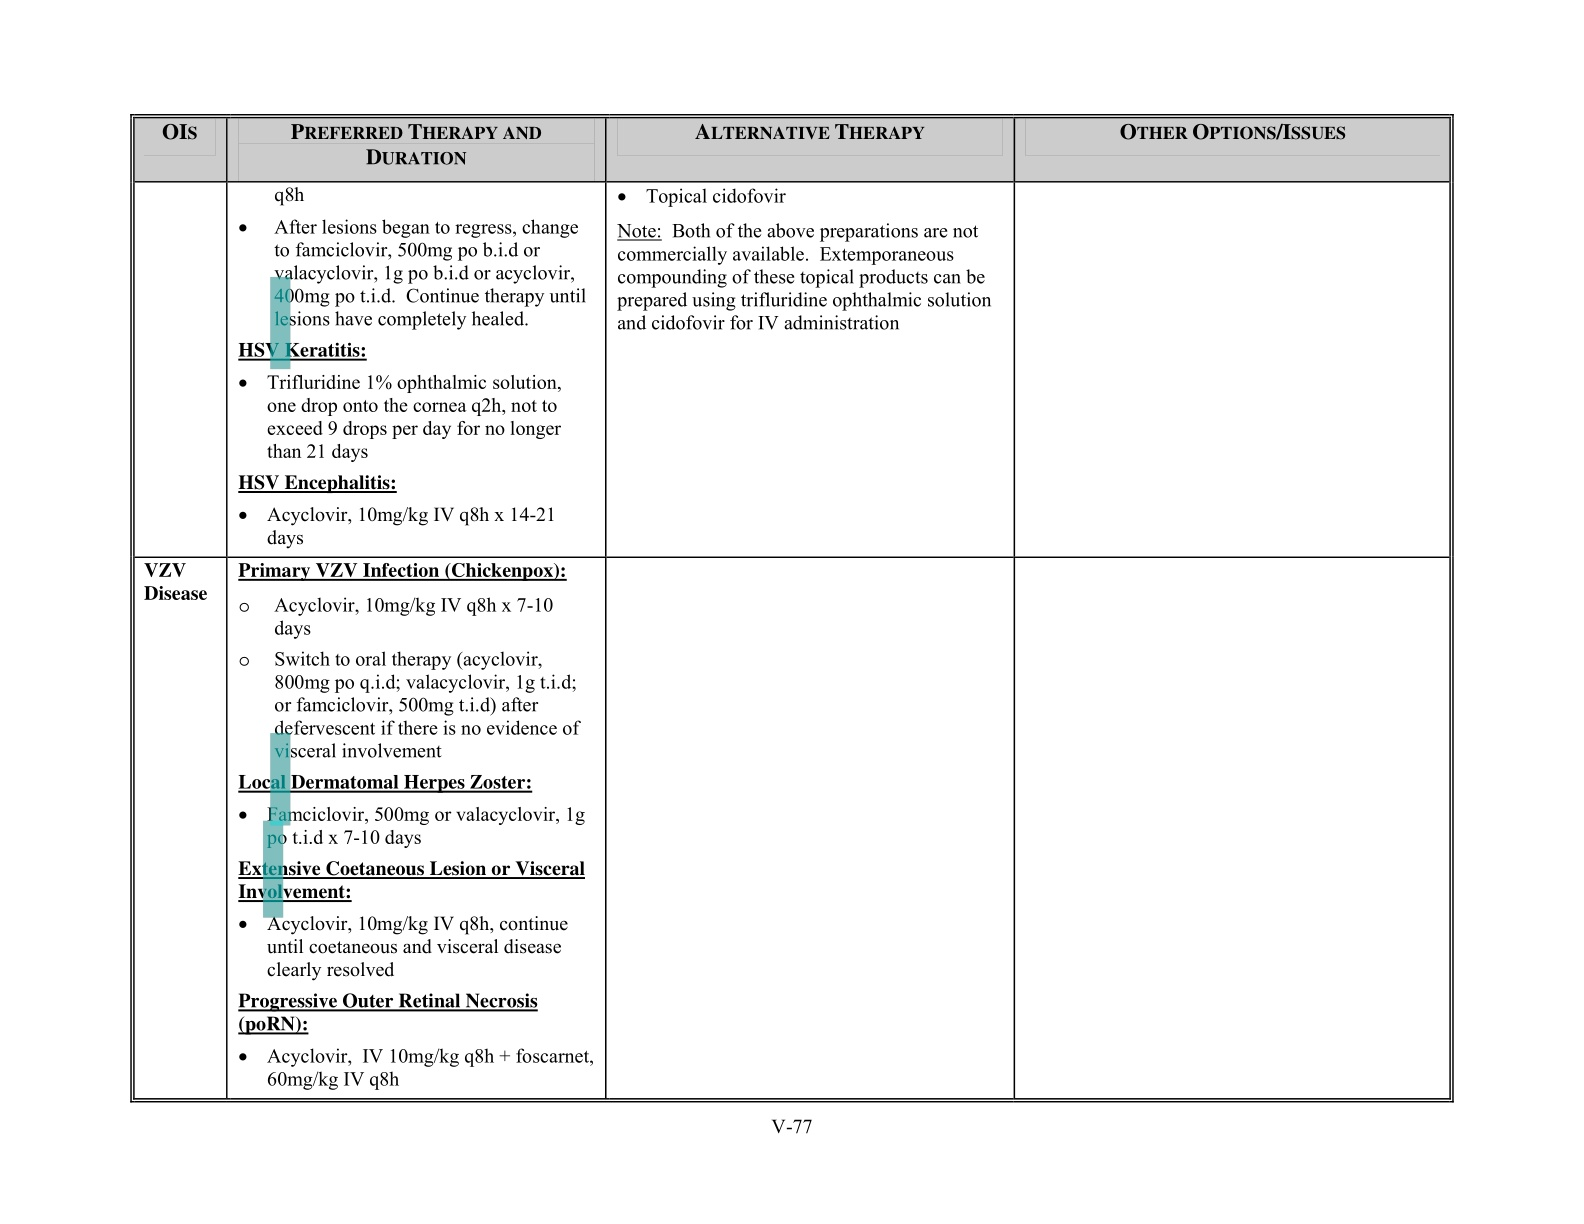full_lined: (129, 113, 1455, 1104)
